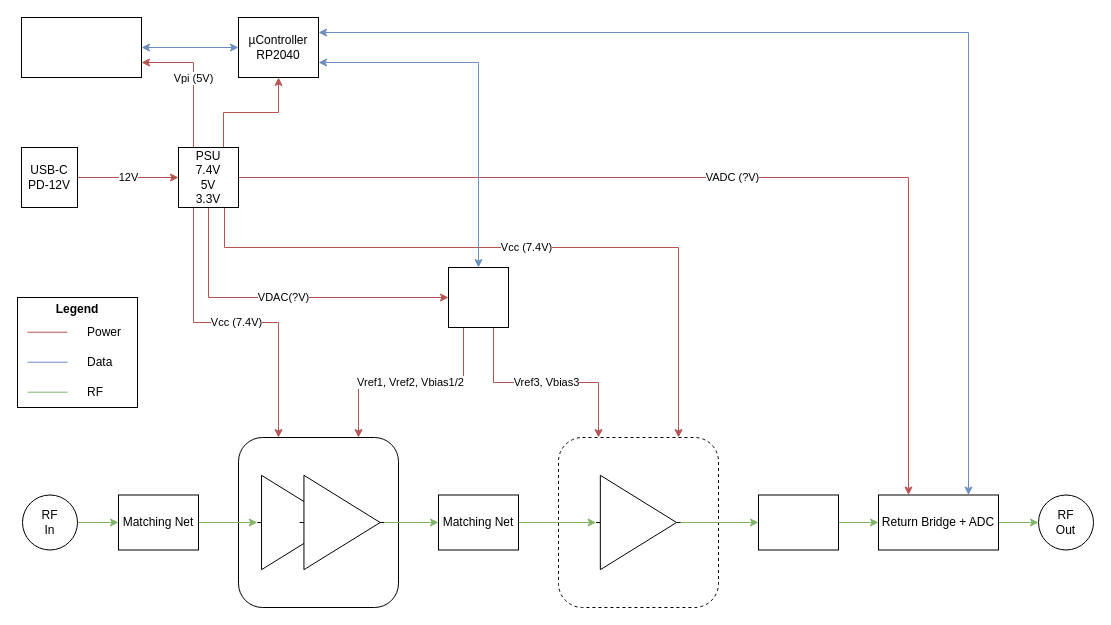
Image size: 1111x625. Some labels were removed from this diagram. Here are the shapes that lost their labels. From the top down, the box of each, then its label:
(20, 16, 142, 78): uCell-BB Connector
(448, 266, 508, 328): Bias/Vref DAC
(238, 436, 398, 608): CMX90A007
(558, 436, 718, 608): CMX90A009
(758, 494, 838, 550): Matching Net LPF
